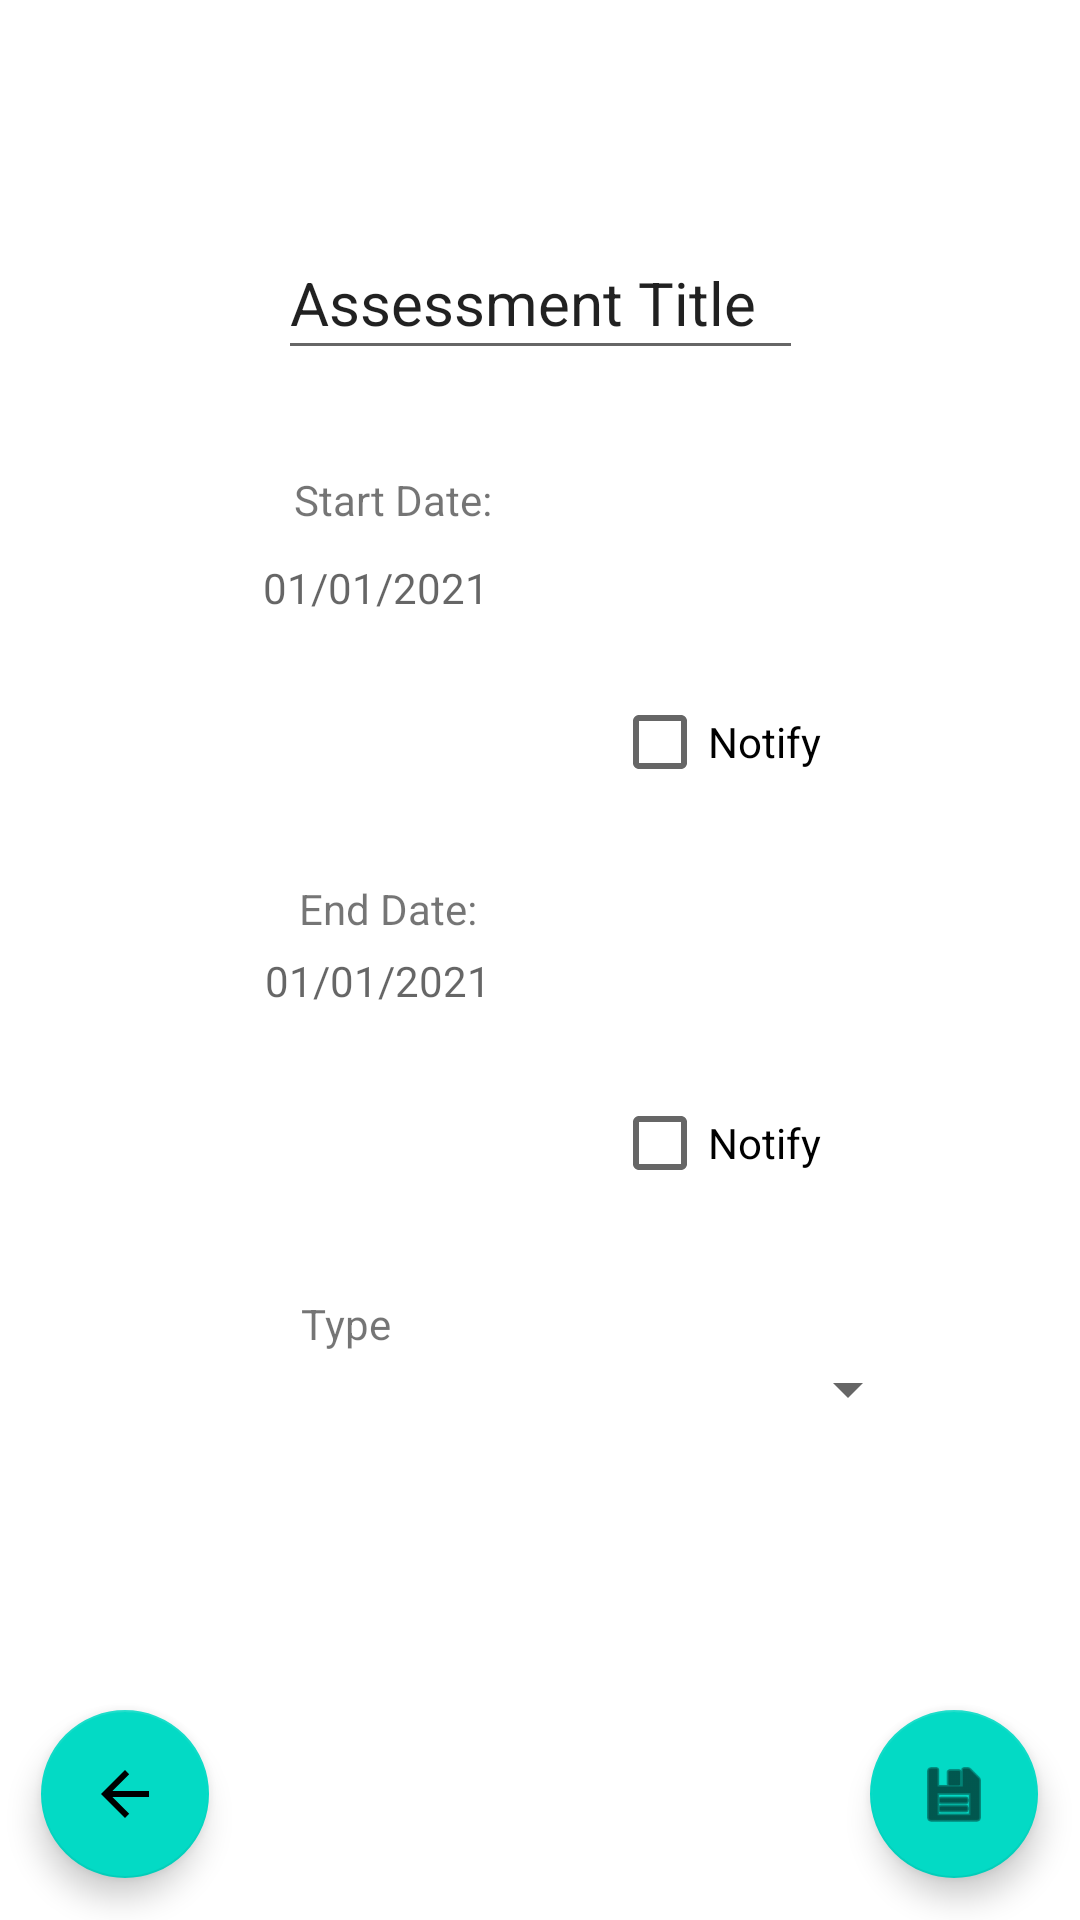

Named icons in this screenshot (1080w x 1920h) and their bounding boxes, detection(x1, y1, x2, y2):
save: detection(870, 1710, 1038, 1878)
